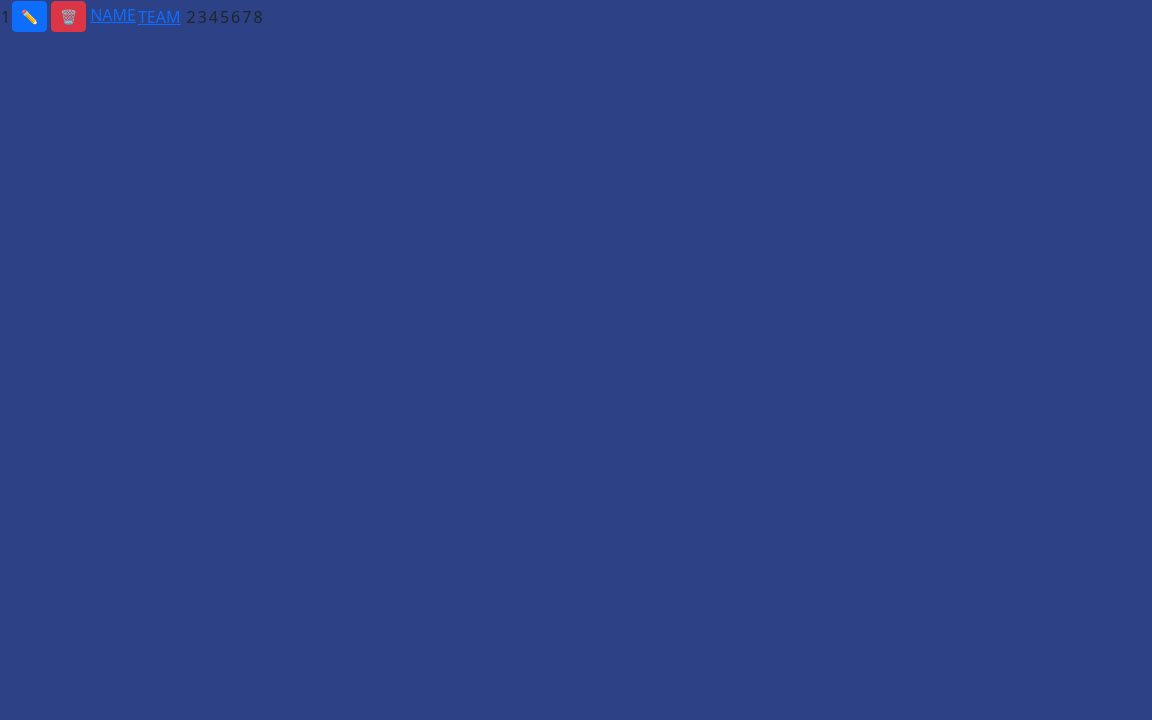
DivisionPlayer › when logged in › interactivity › can close edit player dialog
This screenshot has width=1152, height=720.
Click the button "✏️" at point(30, 16), box [12, 1, 47, 32]
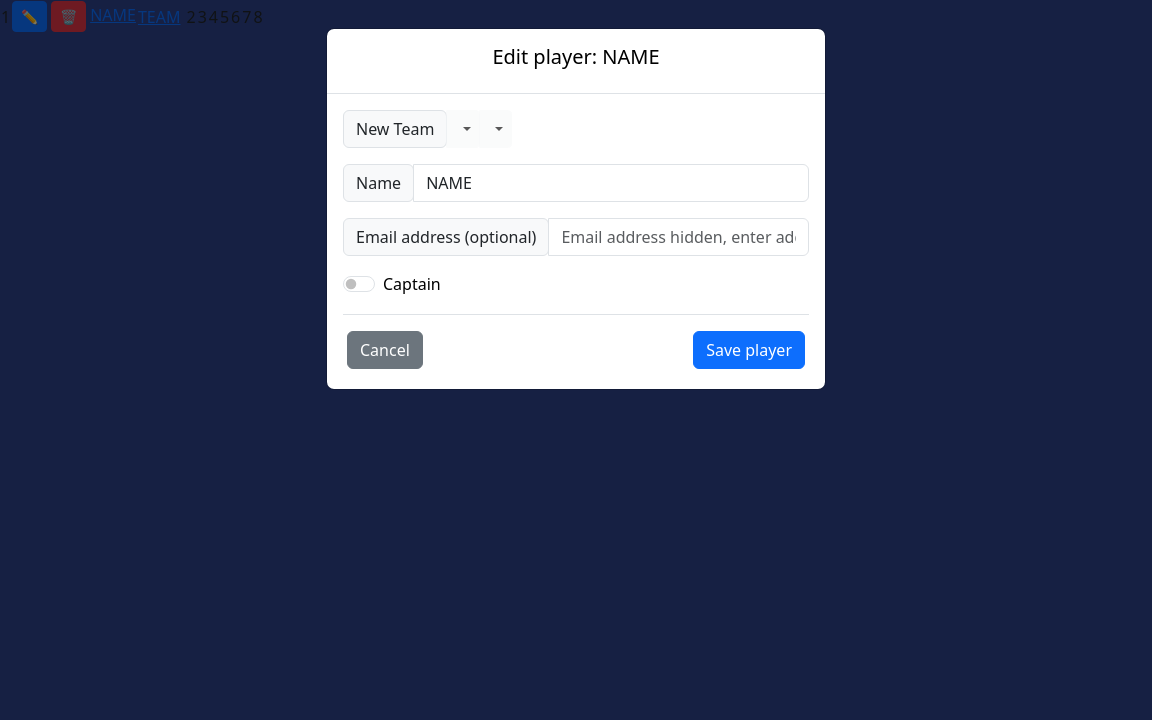
expect the element with class "modal-dialog" is shown: met, box [326, 28, 826, 390]
Click the button "Cancel" at point(385, 350), box [347, 331, 423, 369]
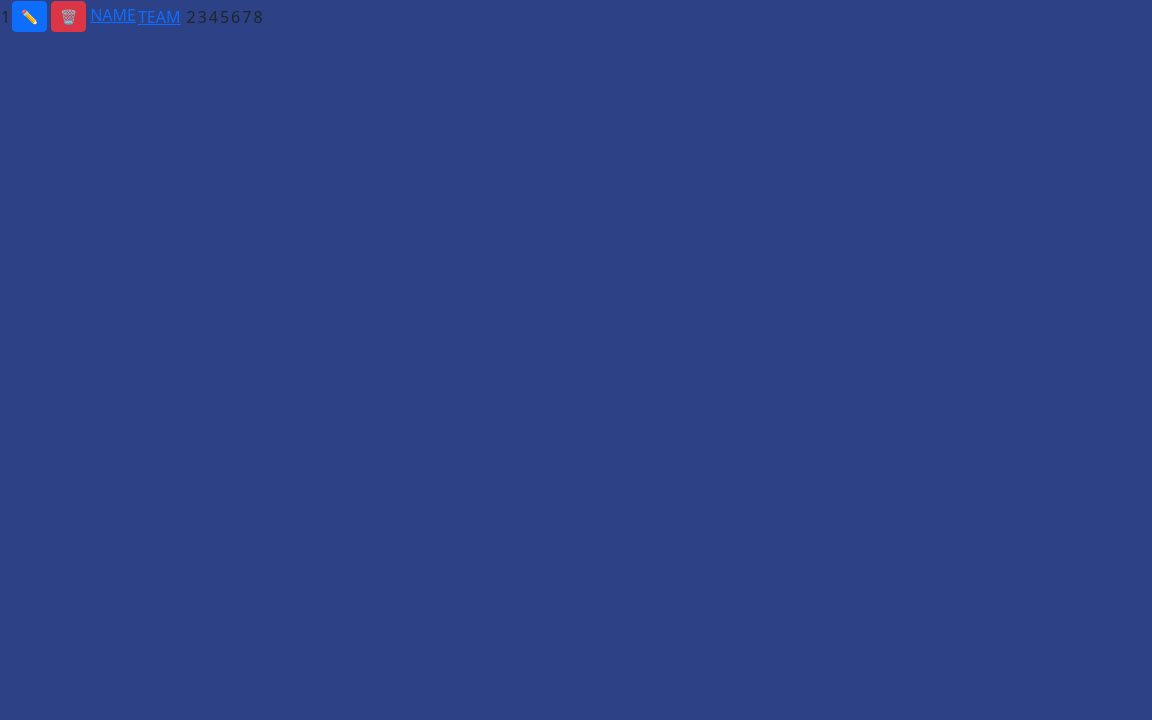
expect the element with class "modal-dialog" is gone: met
